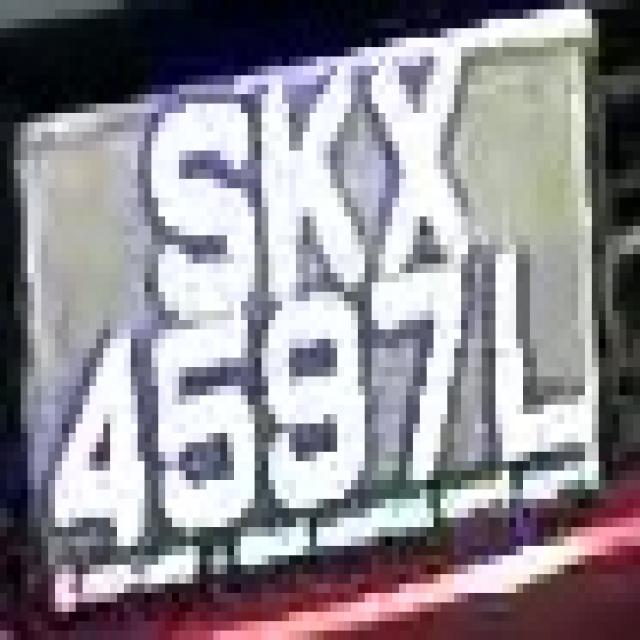4: (20, 339, 152, 565)
5: (138, 273, 268, 574)
7: (344, 254, 475, 518)
9: (241, 273, 385, 518)
K: (234, 56, 372, 330)
L: (475, 216, 592, 480)
S: (117, 85, 282, 329)
X: (364, 28, 482, 273)
